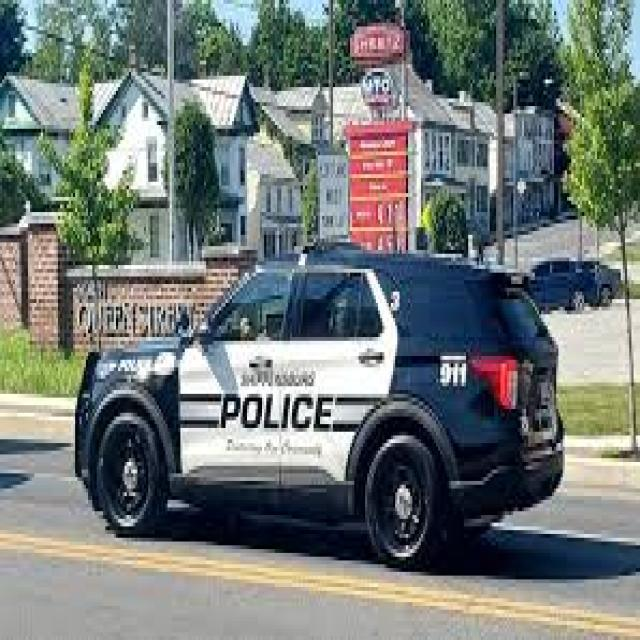cop: (75, 240, 565, 580)
